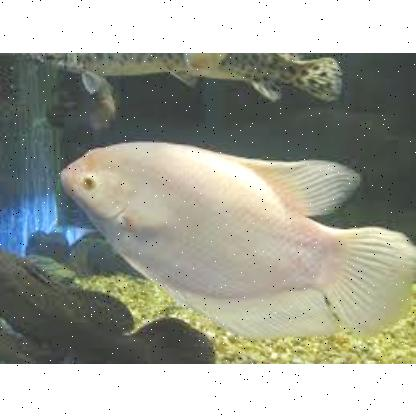gurame: (63, 137, 409, 329)
